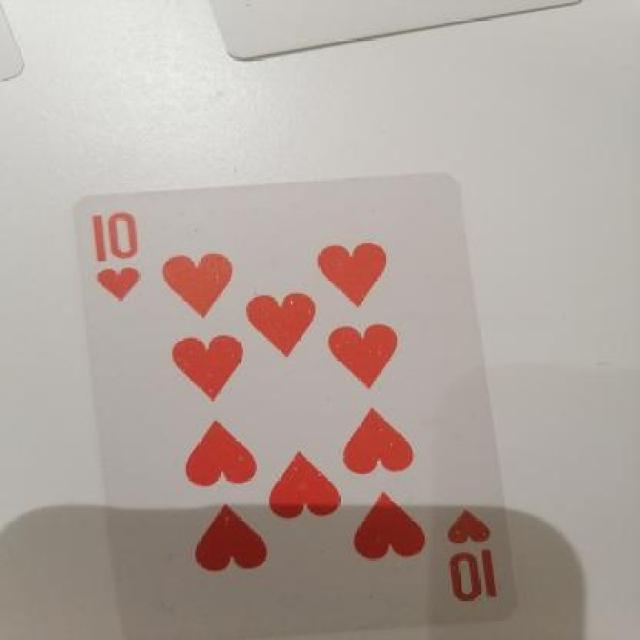10H: (425, 504, 517, 608), (77, 200, 152, 305)
